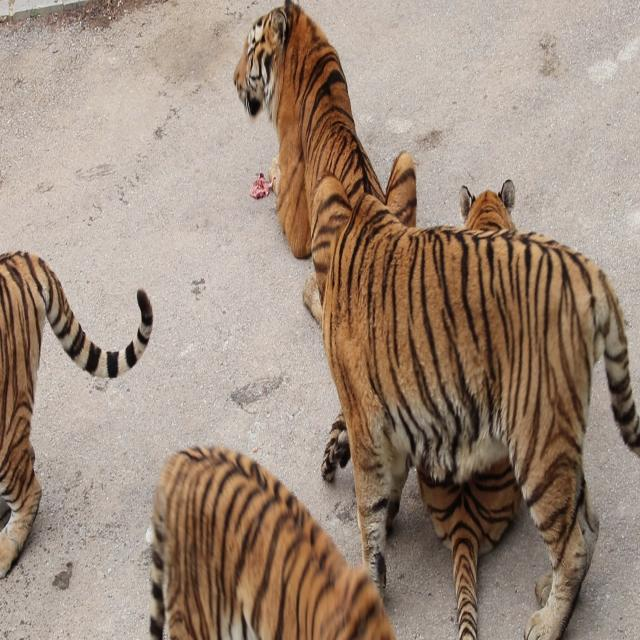Tiger: (324, 191, 640, 634), (232, 0, 416, 332), (0, 249, 154, 575), (417, 178, 524, 640), (148, 444, 394, 640)
